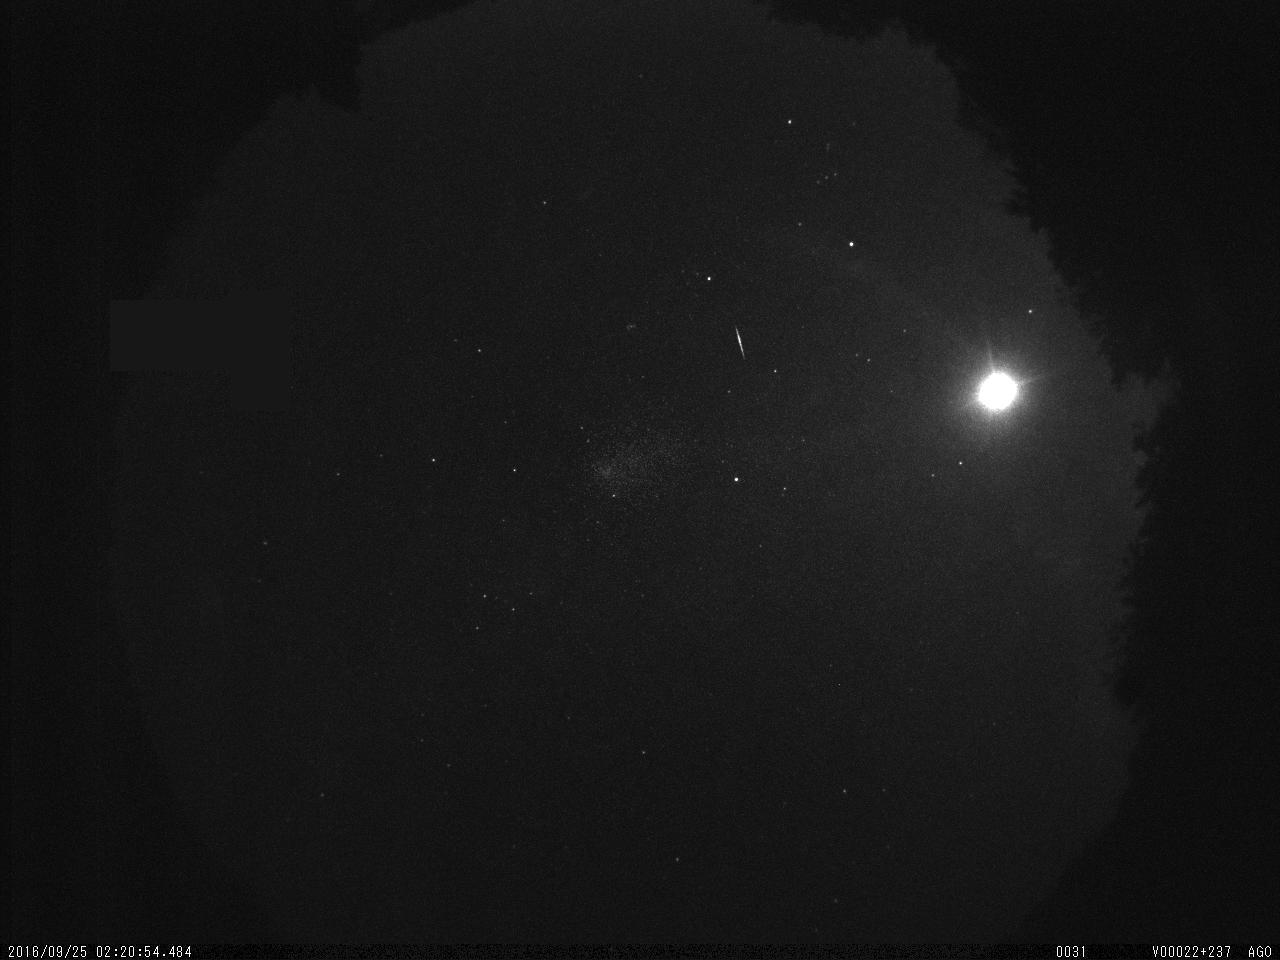meteor: (727, 318, 760, 368)
